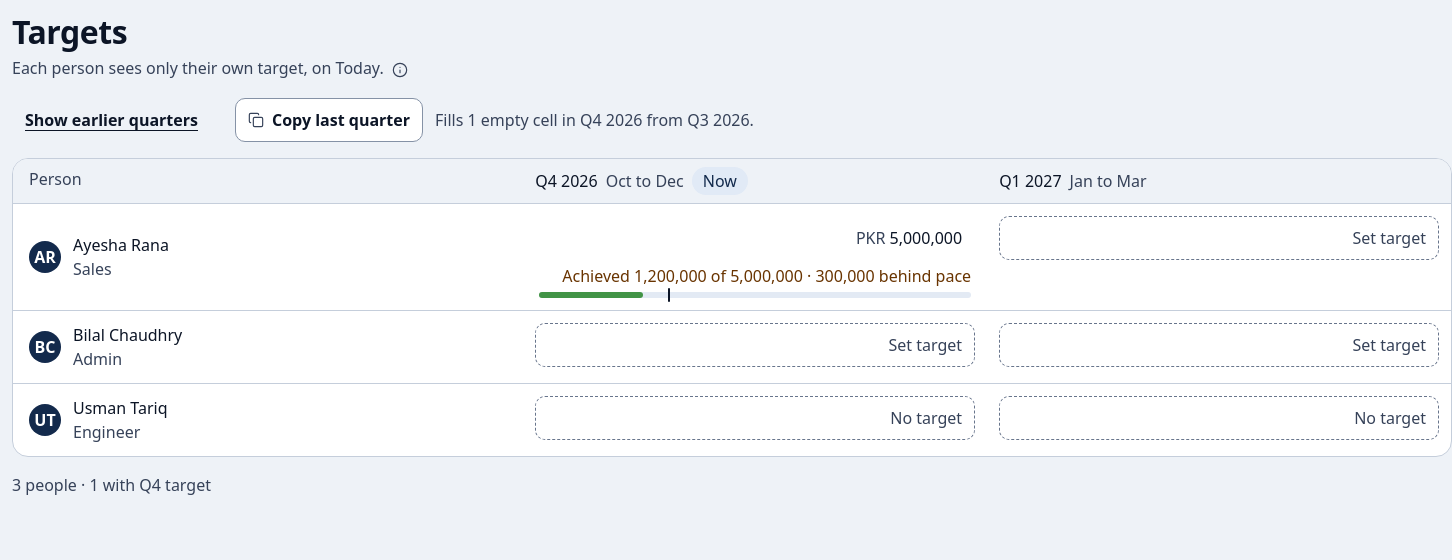
Scenario: Targets (M06) › refuses zero in words and keeps the cell open
Check: the text "Ayesha Rana" is shown, box x1=73 y1=233 x2=169 y2=257
Click the 2nd button "Set target": click(925, 345) x1=535 y1=323 x2=975 y2=367
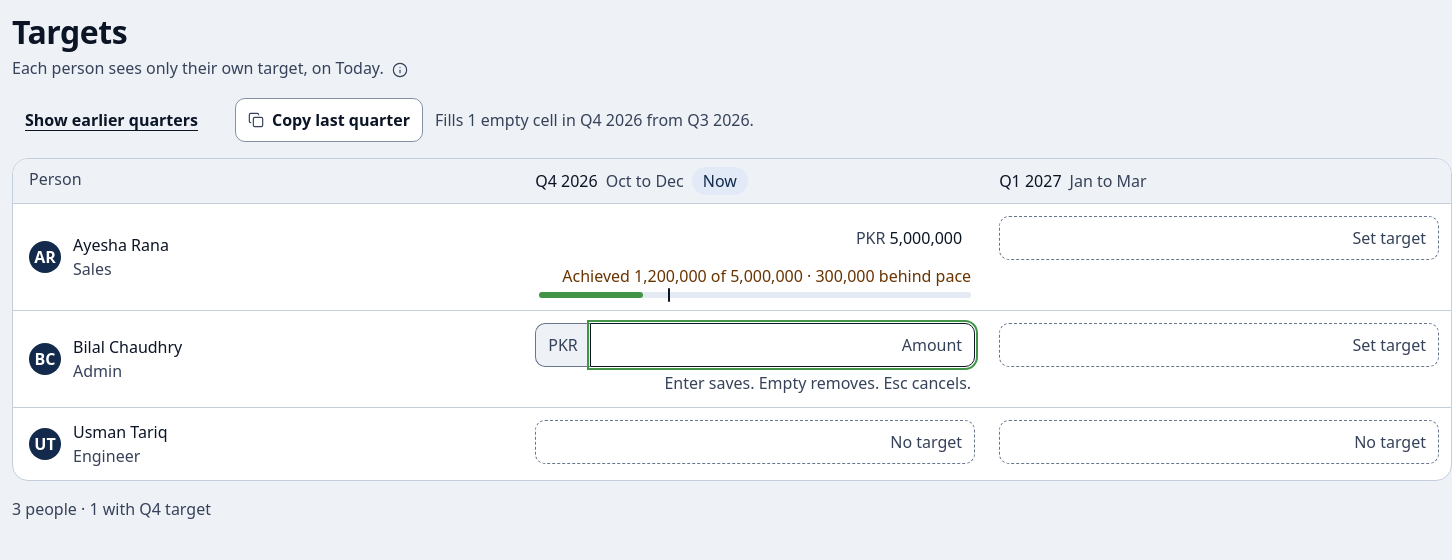
Type keys "0{Enter}"
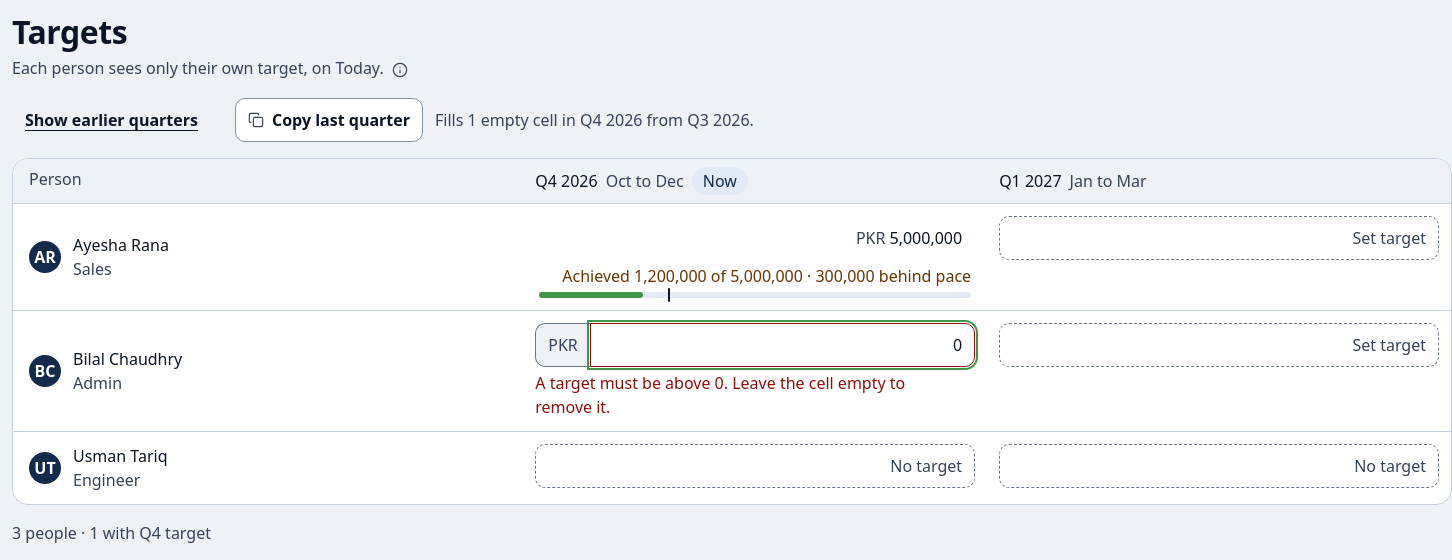
Check: the message shows "A target must be above 0", box x1=535 y1=372 x2=905 y2=418
